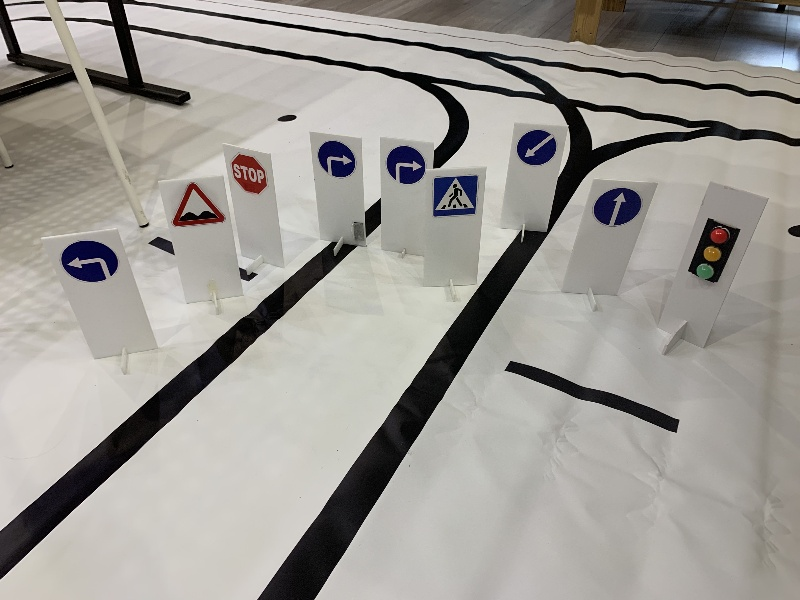Left: (59, 240, 121, 284)
Nerov: (169, 180, 226, 226)
Right: (384, 143, 426, 186), (315, 139, 358, 179)
Stop: (231, 155, 267, 196)
forw: (592, 187, 641, 225)
pesh: (430, 173, 477, 218)
prep: (515, 130, 558, 166)
